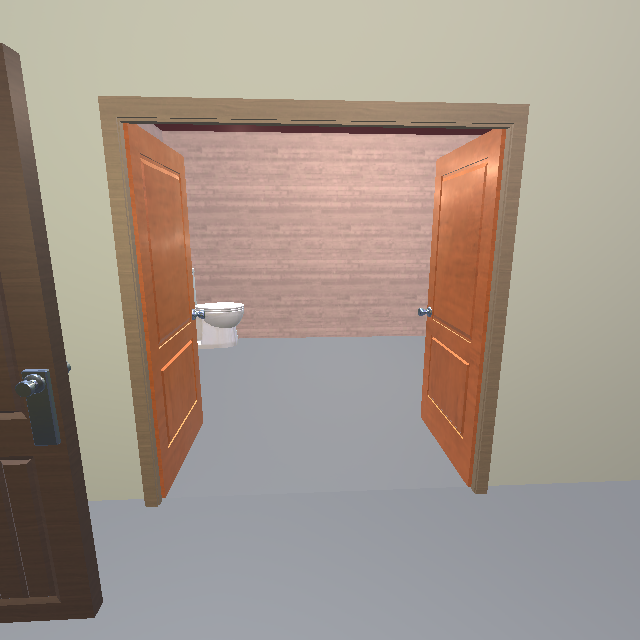open_doorway: (98, 96, 529, 506)
